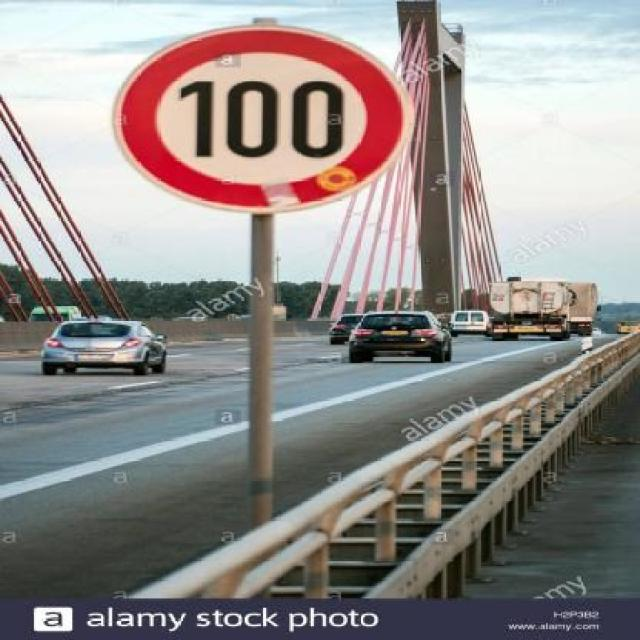forb_speed_over_100: (114, 26, 412, 209)
